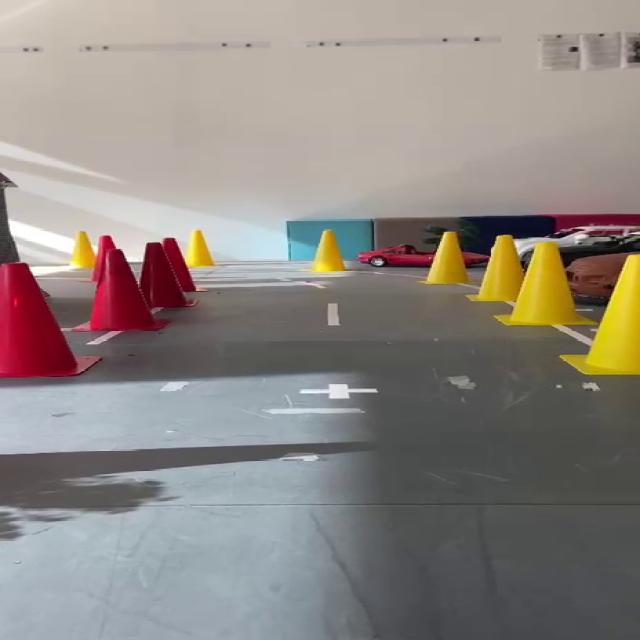Cone-red: (0, 262, 99, 378), (73, 246, 166, 331), (141, 243, 193, 308), (163, 238, 197, 292), (91, 235, 114, 285)
Cones-yellow: (560, 255, 639, 375), (499, 242, 593, 325), (470, 235, 523, 302), (422, 232, 470, 284), (313, 230, 345, 272), (183, 230, 214, 272), (69, 231, 95, 269), (166, 238, 178, 248), (177, 250, 181, 258)
